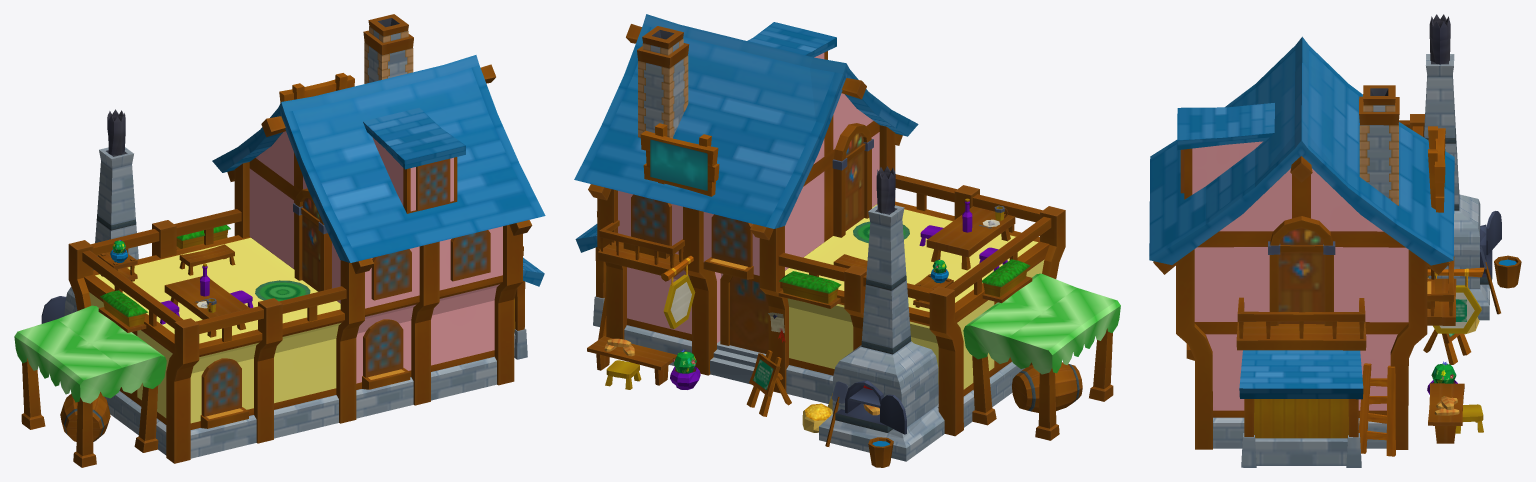
File: HOS0110019.fbx
3 views of the same model, side by side, from view 1: azimuth 30°, elevation 25°; view 2: azimuth 150°, elevation 25°; view 3: azimuth 270°, elevation 25° (orthographic). The views are drawn at different scales.
Visible parts, largest first — view 1: smHOS0110019; view 2: smHOS0110019; view 3: smHOS0110019.
Boxes of the visible parts, x1,y1,x2,y2 form: smHOS0110019: (14, 14, 545, 467); smHOS0110019: (574, 14, 1120, 467); smHOS0110019: (1149, 14, 1521, 467).
Size of what is drawn, in the model's own units: 1241 by 779 by 781.
1 material, 1 textured.
